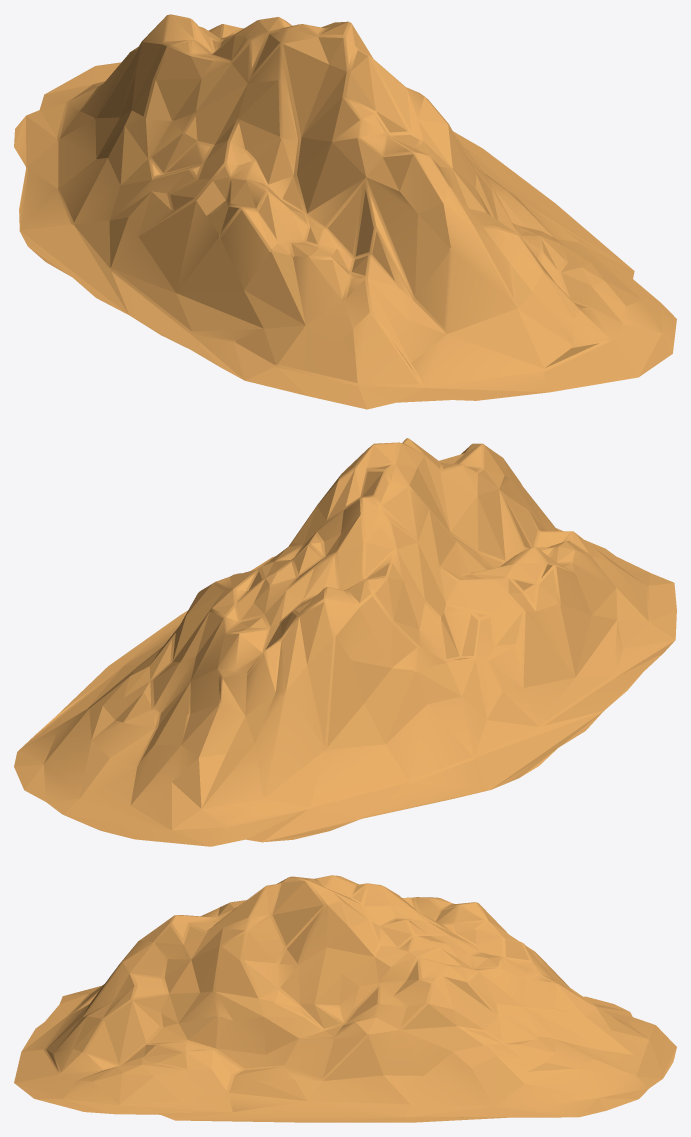
File: BigRock3.fbx
3 renders of one model, top to bottom at view 1: azimuth 30°, elevation 25°; view 2: azimuth 150°, elevation 25°; view 3: azimuth 270°, elevation 25°, orthographic. The views are drawn at different scales.
Visible parts, largest first — view 1: Bigrock3; view 2: Bigrock3; view 3: Bigrock3.
Boxes of the visible parts, x1,y1,x2,y2 form: Bigrock3: [14, 14, 676, 409]; Bigrock3: [14, 438, 676, 846]; Bigrock3: [14, 875, 676, 1122].
Size of the model in its own units: 15.72 by 27.67 by 7.84.
